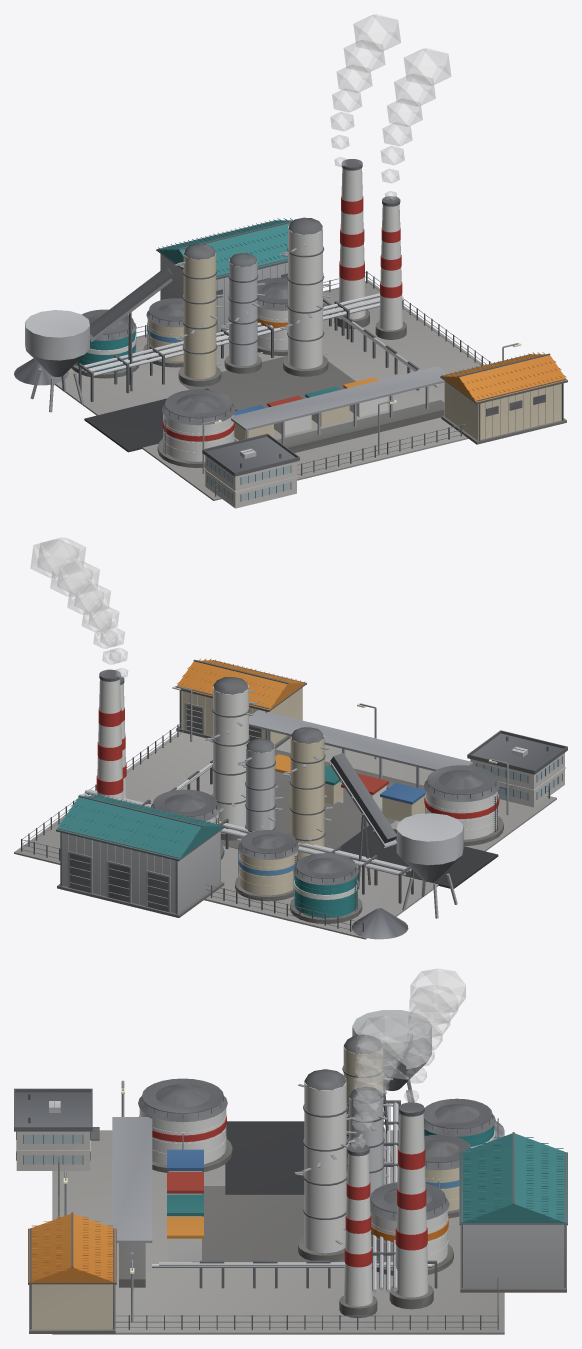
File: Refinery_P2.fbx
3 renders of one model, top to bottom at view 1: azimuth 30°, elevation 25°; view 2: azimuth 150°, elevation 25°; view 3: azimuth 270°, elevation 25°, orthographic. The views are drawn at different scales.
Parts seen in each view (by area): view 1: Refinery.Pad, Refinery.Shed, Refinery.Bay, Refinery.Col2, Refinery.Office, Refinery.Hall, Refinery.Col0, Refinery.Tank0, Refinery.Smoke0, Refinery.Smoke1, Refinery.Intake, Refinery.Stack0 (+11 smaller); view 2: Refinery.Pad, Refinery.Hall, Refinery.Shed, Refinery.Col2, Refinery.Office, Refinery.Tank0, Refinery.Tank1, Refinery.Smoke0, Refinery.Col0, Refinery.Bay, Refinery.Intake, Refinery.Tank2 (+10 smaller); view 3: Refinery.Pad, Refinery.Hall, Refinery.Shed, Refinery.Col2, Refinery.Office, Refinery.Tank0, Refinery.Stack0, Refinery.Bay, Refinery.Stack1, Refinery.Smoke0, Refinery.Smoke1, Refinery.Utils (+10 smaller).
Part boxes in pixels (x1=…): Refinery.Pad: x1=54, y1=280, x2=484, y2=500; Refinery.Shed: x1=440, y1=352, x2=567, y2=444; Refinery.Bay: x1=231, y1=366, x2=463, y2=452; Refinery.Col2: x1=280, y1=217, x2=330, y2=376; Refinery.Office: x1=202, y1=433, x2=299, y2=508; Refinery.Hall: x1=156, y1=218, x2=293, y2=332; Refinery.Col0: x1=175, y1=243, x2=223, y2=386; Refinery.Tank0: x1=157, y1=389, x2=236, y2=467; Refinery.Smoke0: x1=330, y1=14, x2=400, y2=166; Refinery.Smoke1: x1=381, y1=48, x2=451, y2=200; Refinery.Intake: x1=25, y1=310, x2=89, y2=412; Refinery.Stack0: x1=334, y1=159, x2=369, y2=328; Refinery.Pad: x1=14, y1=731, x2=556, y2=939; Refinery.Hall: x1=56, y1=794, x2=225, y2=917; Refinery.Shed: x1=176, y1=658, x2=306, y2=748; Refinery.Col2: x1=204, y1=677, x2=257, y2=840; Refinery.Office: x1=467, y1=730, x2=567, y2=807; Refinery.Tank0: x1=424, y1=765, x2=503, y2=845; Refinery.Tank1: x1=290, y1=853, x2=362, y2=923; Refinery.Smoke0: x1=37, y1=537, x2=127, y2=677; Refinery.Col0: x1=282, y1=727, x2=332, y2=860; Refinery.Bay: x1=249, y1=710, x2=472, y2=789; Refinery.Intake: x1=396, y1=813, x2=463, y2=918; Refinery.Tank2: x1=235, y1=830, x2=298, y2=901; Refinery.Pad: x1=52, y1=1121, x2=504, y2=1334; Refinery.Hall: x1=459, y1=1132, x2=567, y2=1292; Refinery.Shed: x1=28, y1=1212, x2=116, y2=1333; Refinery.Col2: x1=294, y1=1069, x2=356, y2=1262; Refinery.Office: x1=14, y1=1088, x2=99, y2=1170; Refinery.Tank0: x1=138, y1=1078, x2=232, y2=1172; Refinery.Stack0: x1=389, y1=1102, x2=433, y2=1309; Refinery.Bay: x1=112, y1=1117, x2=152, y2=1289; Refinery.Stack1: x1=339, y1=1143, x2=377, y2=1317; Refinery.Smoke0: x1=404, y1=968, x2=465, y2=1101; Refinery.Smoke1: x1=351, y1=1016, x2=412, y2=1148; Refinery.Utils: x1=167, y1=1149, x2=203, y2=1261.
Bounding box in the file's own units: 8771 × 5886 × 8327.
